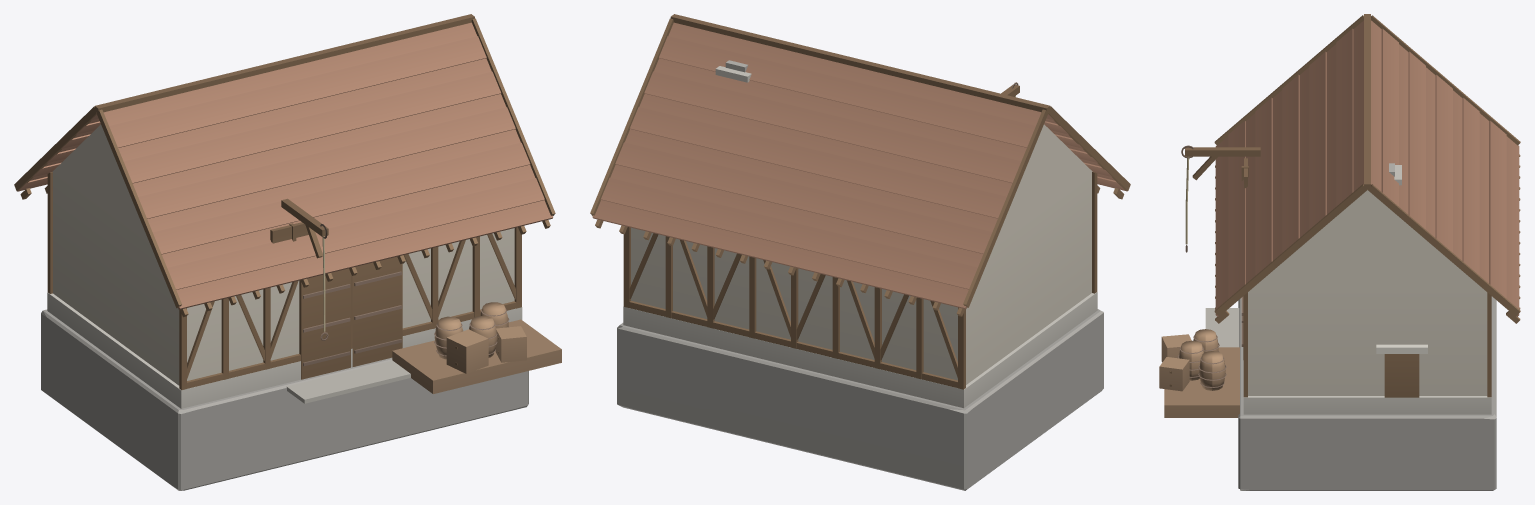
The model's file is lagerhaus.glb.
The picture shows the model from 3 angles, left to right: view 1: azimuth 30°, elevation 25°; view 2: azimuth 150°, elevation 25°; view 3: azimuth 270°, elevation 25°; orthographic projection. The views are drawn at different scales.
Parts seen in each view (by area): view 1: G_lagerhaus; view 2: G_lagerhaus; view 3: G_lagerhaus.
Boxes of the visible parts, x1=… form: G_lagerhaus: x1=14, y1=14, x2=561, y2=490; G_lagerhaus: x1=590, y1=14, x2=1130, y2=490; G_lagerhaus: x1=1159, y1=14, x2=1520, y2=490.
Bounding box in the file's own units: 11.7 × 10.03 × 10.47.
